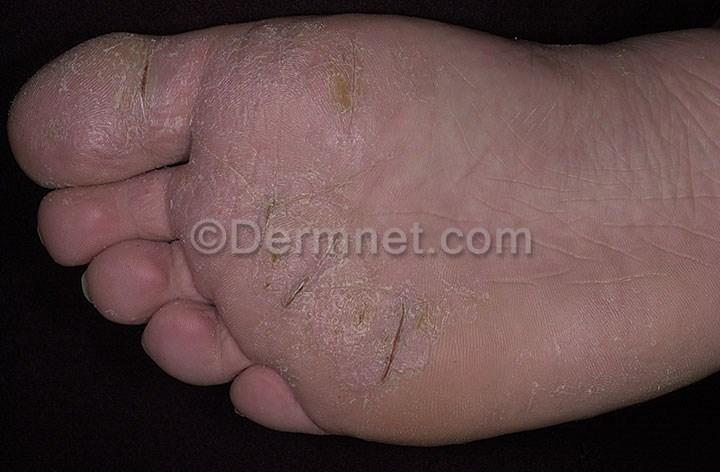Eczema: (259, 258, 518, 400), (225, 139, 370, 215), (100, 40, 214, 122), (300, 27, 400, 119), (244, 22, 292, 80)
